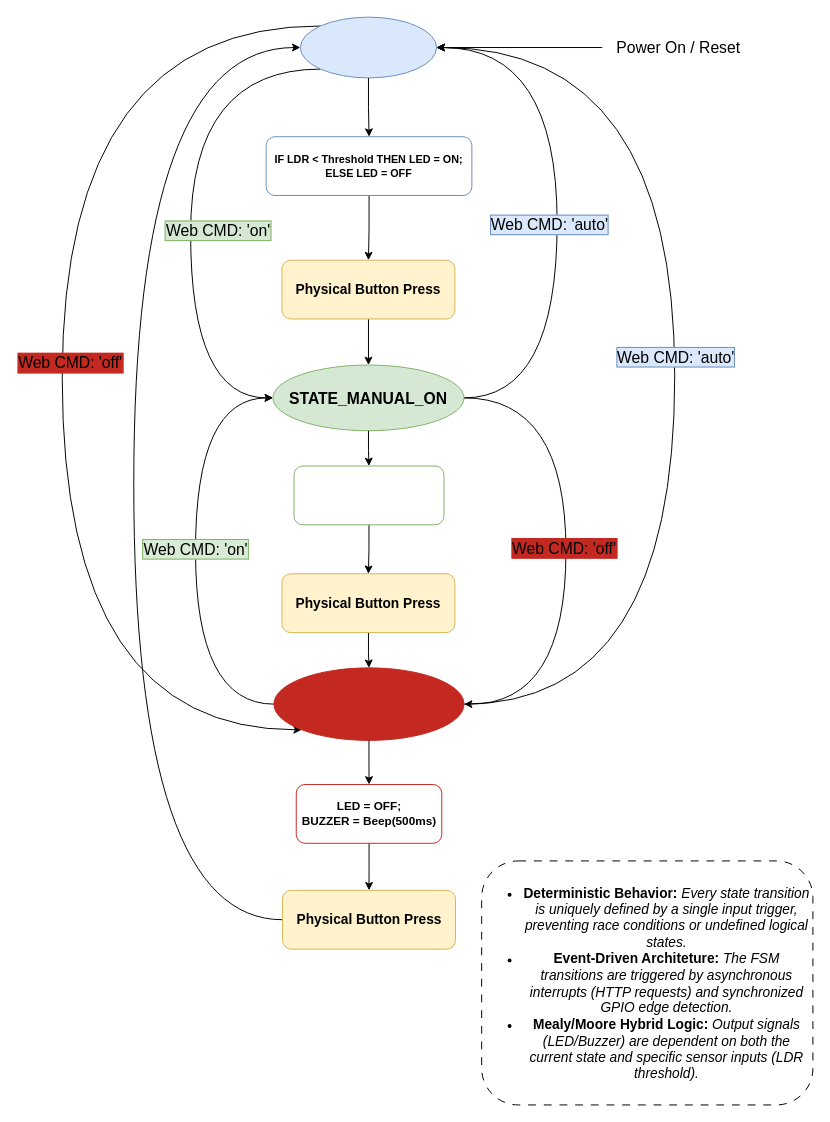
Some shapes in this 830 by 1122 pixel diagram are drawn without their labels. The shapes that lost their labels are listed below. From the top down, each one's centre as x and y in pixels, then its label:
the point at 368,47: STATE_AUTO
the point at 368,495: LED = ON; BUZZER = Beep(500ms)
the point at 368,703: STATE_MANUAL_OFF
